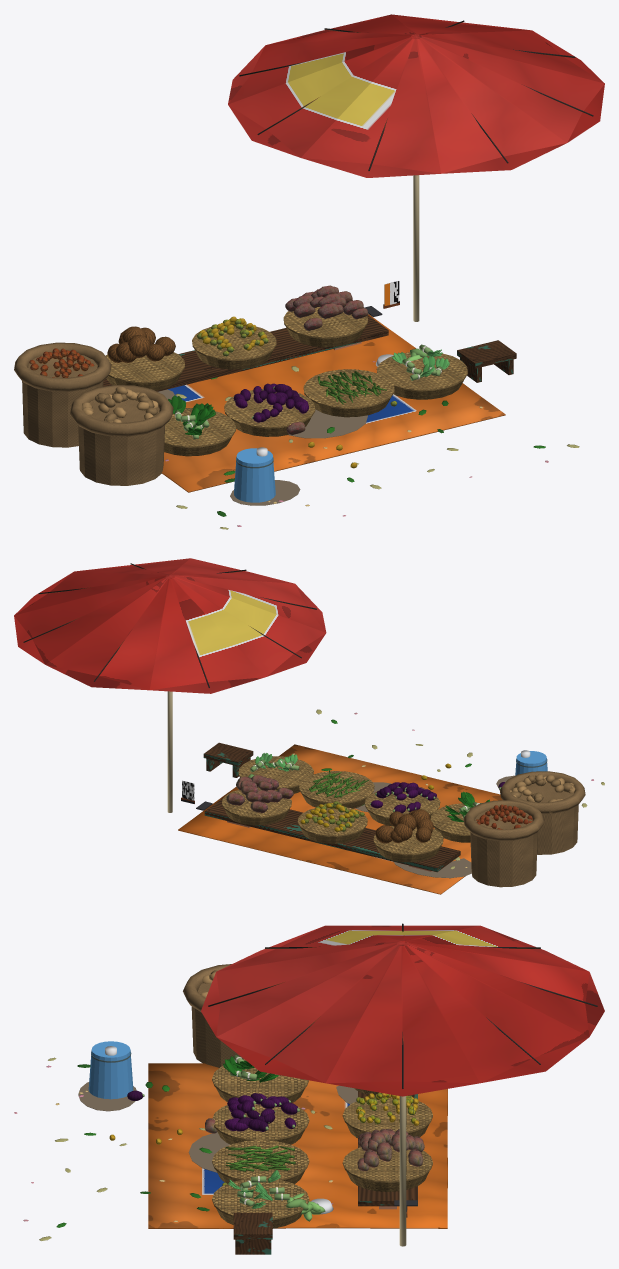
Rendered from market_groundstall.glb.
3 renders of one model, top to bottom at view 1: azimuth 30°, elevation 25°; view 2: azimuth 150°, elevation 25°; view 3: azimuth 270°, elevation 25°, orthographic. The views are drawn at different scales.
Visible parts, largest first — view 1: market_groundstall; view 2: market_groundstall; view 3: market_groundstall.
Boxes of the visible parts, x1=… form: market_groundstall: x1=14, y1=14, x2=604, y2=529; market_groundstall: x1=14, y1=558, x2=604, y2=894; market_groundstall: x1=14, y1=923, x2=604, y2=1254.
Size of the model in its own units: 4.8 by 2.23 by 3.95.
50 materials, 27 textured.
